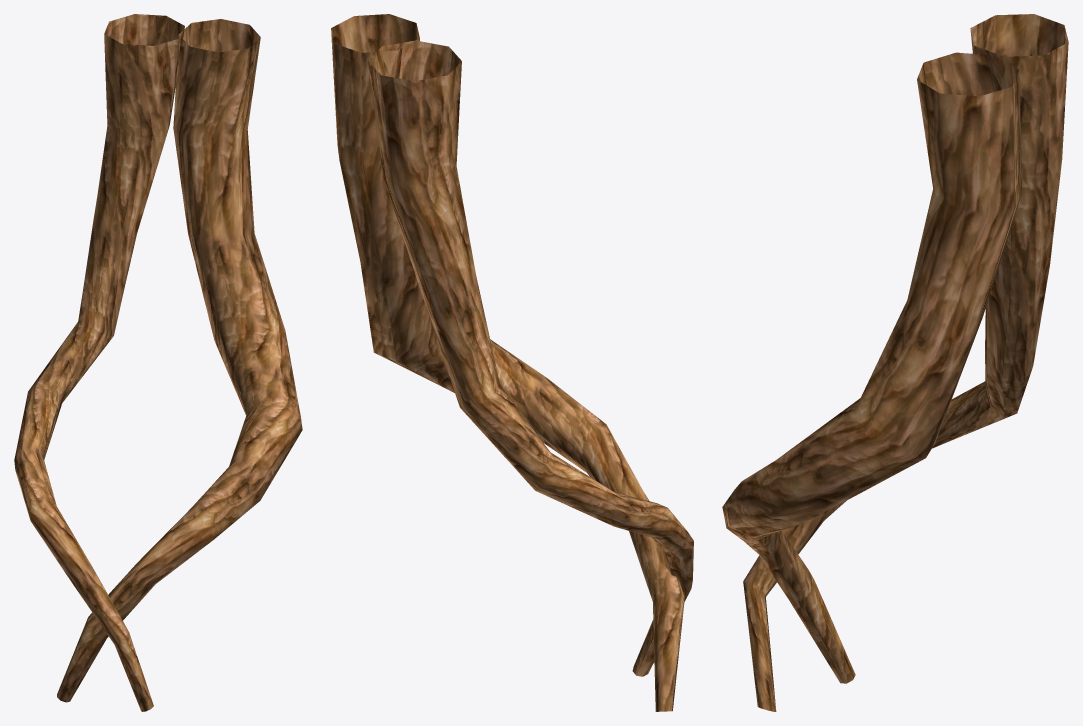
File: EKH_THRONE_PS_TH_ROOT_02.fbx
3 views of the same model, side by side, from view 1: azimuth 30°, elevation 25°; view 2: azimuth 150°, elevation 25°; view 3: azimuth 270°, elevation 25° (orthographic). The views are drawn at different scales.
Visible parts, largest first — view 1: EKH_THRONE_PS_TH_ROOT_02; view 2: EKH_THRONE_PS_TH_ROOT_02; view 3: EKH_THRONE_PS_TH_ROOT_02.
Boxes of the visible parts, box(x1,y1,x2,y2) form: EKH_THRONE_PS_TH_ROOT_02: box(14, 14, 302, 711); EKH_THRONE_PS_TH_ROOT_02: box(331, 14, 693, 711); EKH_THRONE_PS_TH_ROOT_02: box(722, 14, 1068, 711).
Size of the model in its own units: 69478 by 149970 by 63755.
Materials: 1 (1 with a texture image).
